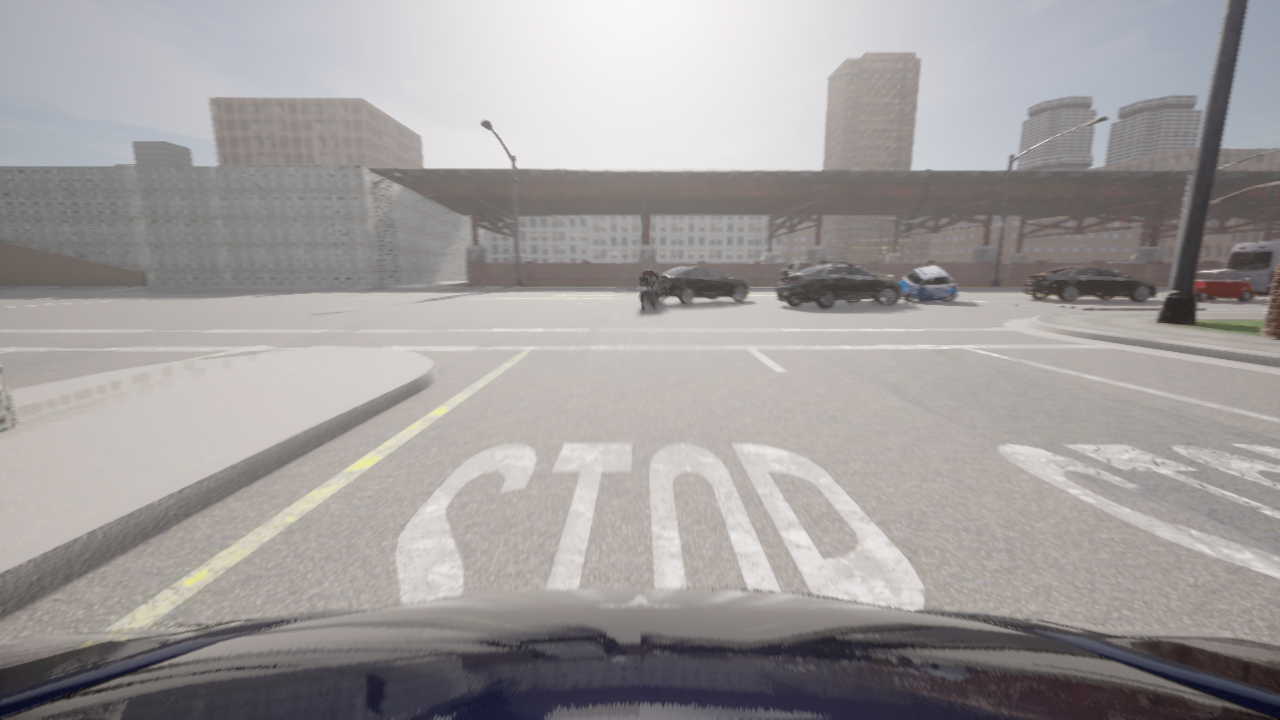cyclist: (0, 588, 1279, 719), (776, 264, 900, 308), (779, 257, 893, 301), (1022, 266, 1157, 301), (657, 265, 748, 304), (1224, 241, 1279, 298), (898, 265, 957, 302), (1194, 269, 1254, 301), (636, 274, 664, 310)
